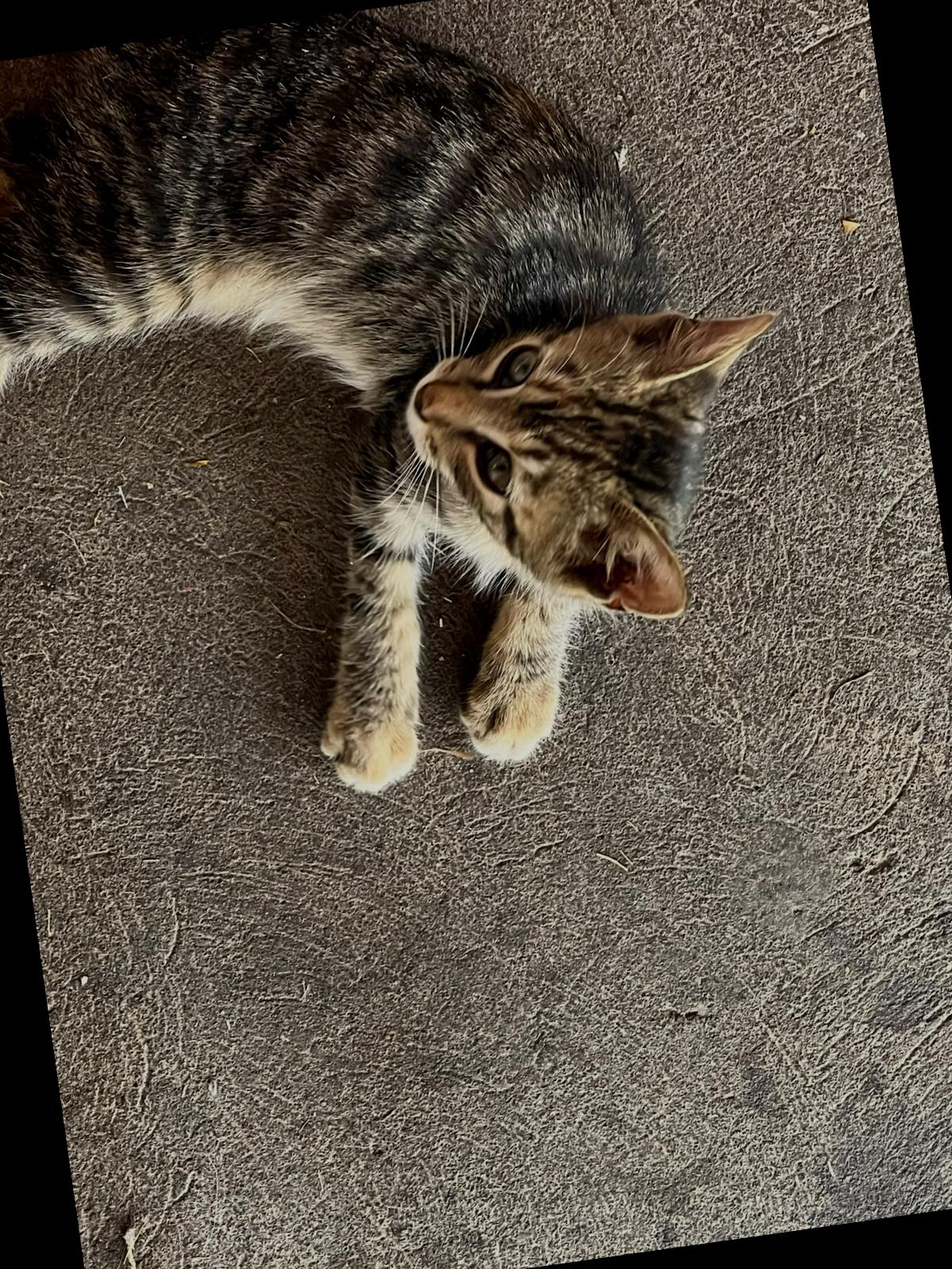macka: (0, 0, 836, 840)
